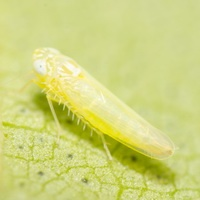insect: (33, 48, 174, 158)
